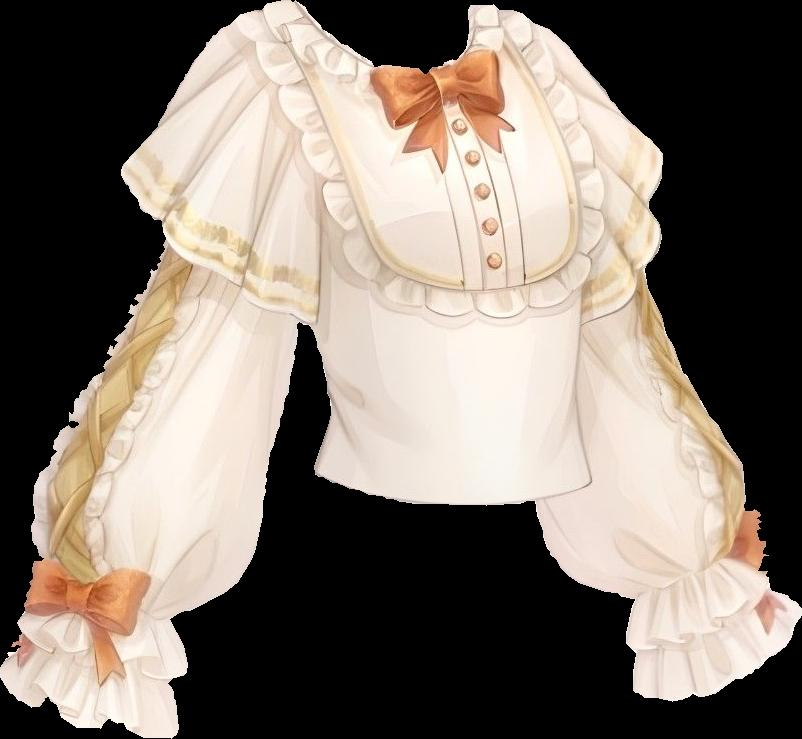Bodice: (234, 0, 603, 505)
Neckline: (261, 6, 585, 289), (298, 3, 478, 72)
Sleeve: (0, 20, 321, 736), (529, 19, 801, 701)
Sleeveline: (233, 17, 322, 187), (527, 16, 606, 190), (628, 506, 753, 601), (43, 557, 176, 624)
Waistline: (232, 15, 608, 322), (123, 165, 317, 323), (584, 151, 668, 327), (313, 466, 598, 508), (622, 575, 773, 650), (14, 623, 190, 678)
